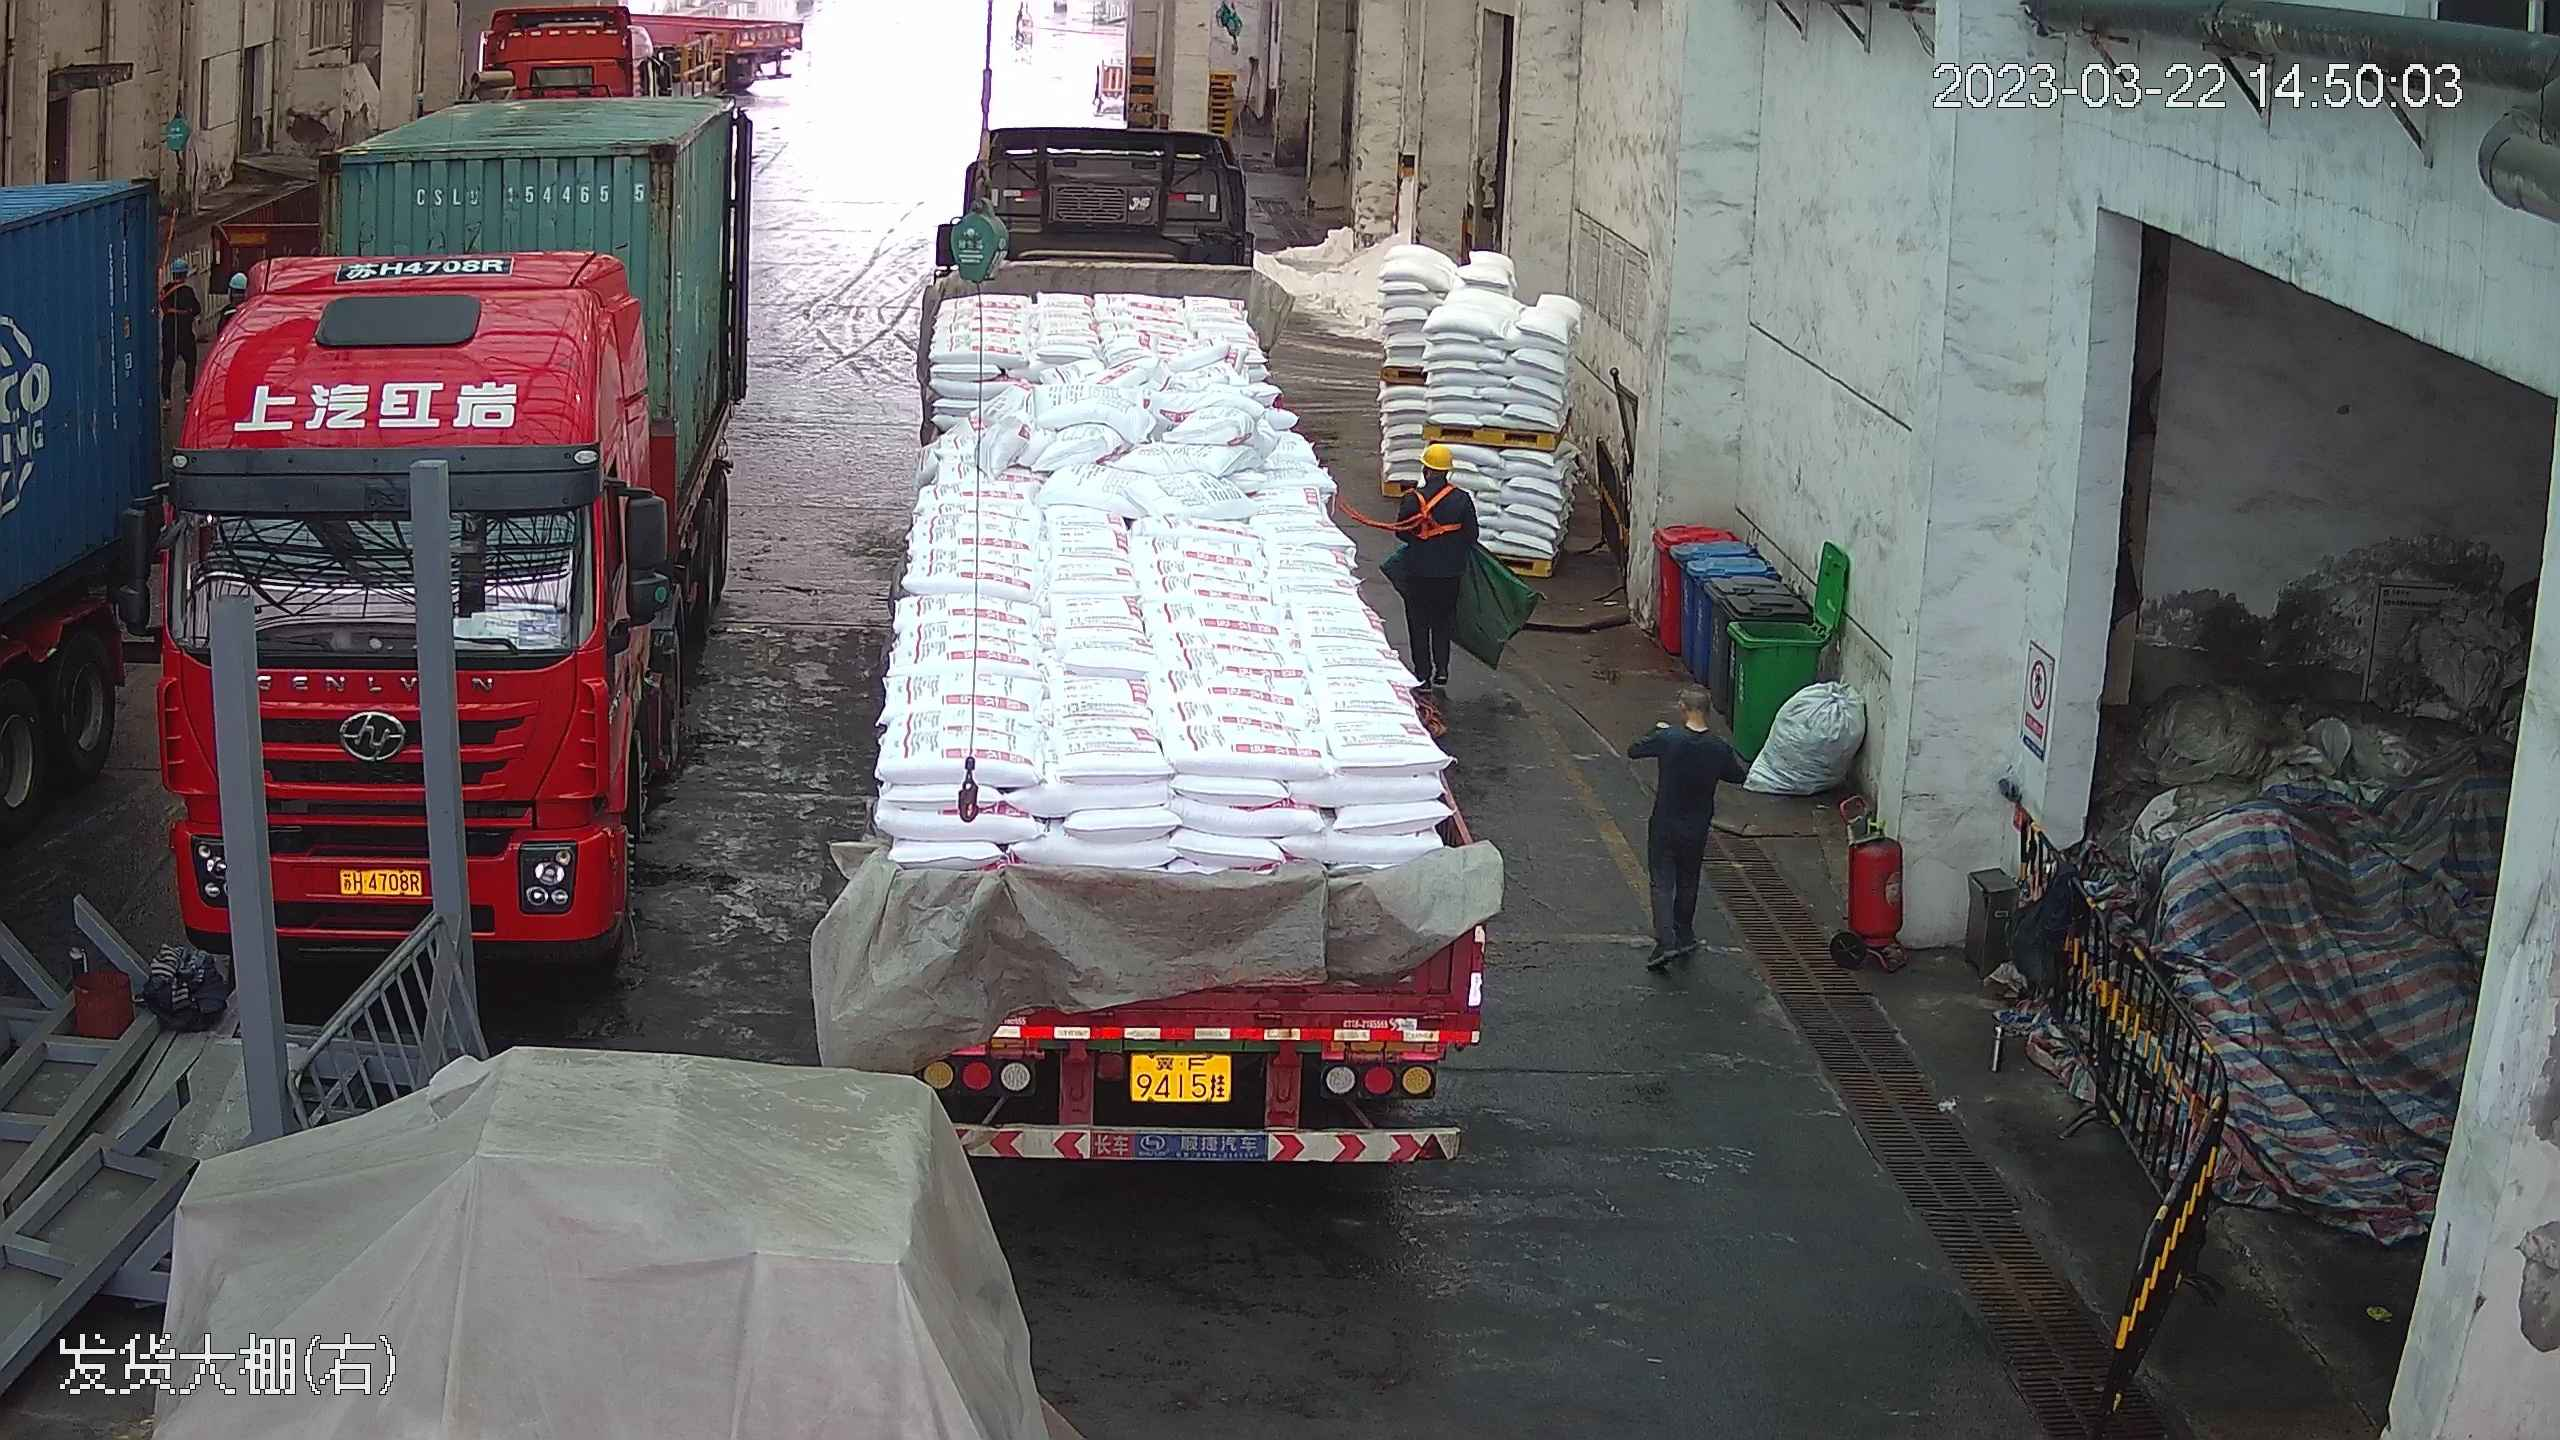belt: (1407, 475, 1468, 537)
head: (1645, 682, 1724, 776), (1398, 436, 1469, 521)
helmet: (1417, 438, 1455, 466)
people: (1623, 679, 1731, 975), (1383, 436, 1482, 699)
truck: (841, 62, 1523, 1194), (150, 17, 755, 961), (1, 55, 155, 989)
